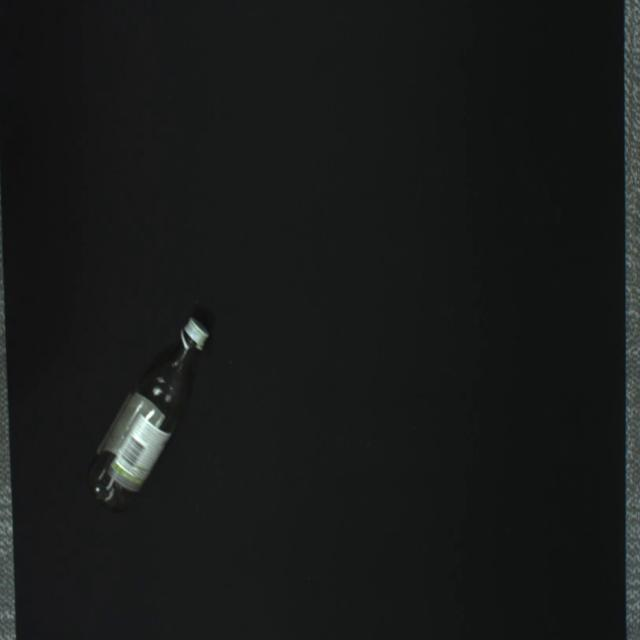soju-bottle: (87, 316, 209, 511)
